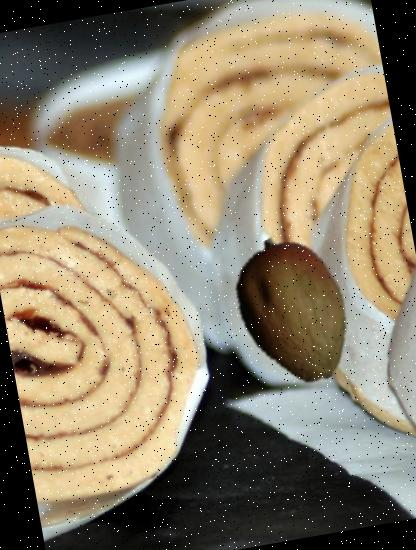Papaya: (207, 224, 382, 398)
